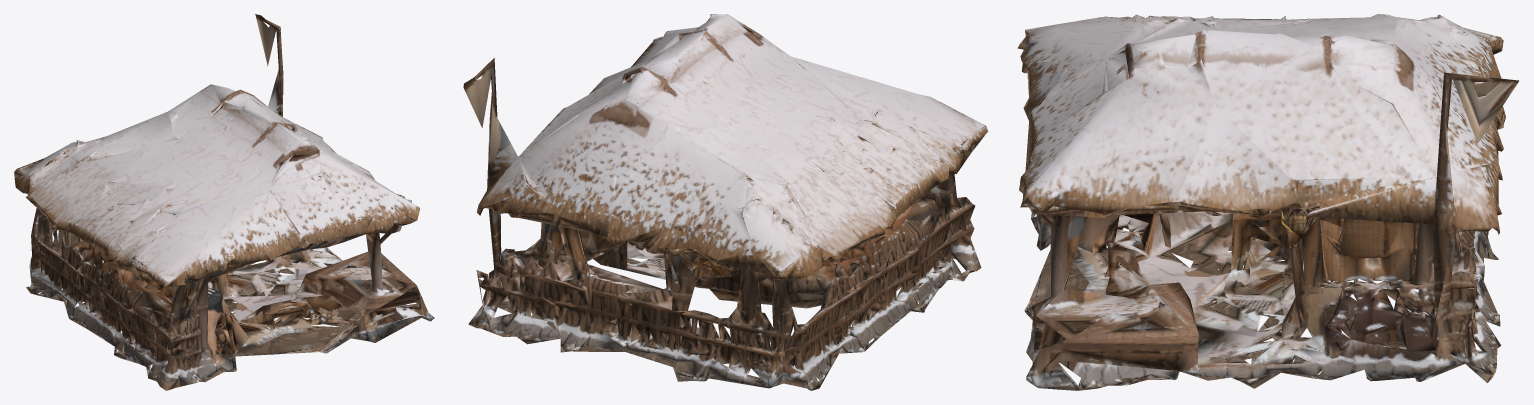
Rendered from PR_Jumak.fbx.
The picture shows the model from 3 angles, left to right: view 1: azimuth 30°, elevation 25°; view 2: azimuth 150°, elevation 25°; view 3: azimuth 270°, elevation 25°; orthographic projection. The views are drawn at different scales.
Parts seen in each view (by area): view 1: texture_mapping; view 2: texture_mapping; view 3: texture_mapping.
Part boxes in pixels (<box>): texture_mapping: <box>14,14,434,390</box>; texture_mapping: <box>463,14,988,390</box>; texture_mapping: <box>1017,14,1518,390</box>.
Bounding box in the file's own units: 0.9696 × 0.9623 × 0.6607.
1 material, 1 textured.
